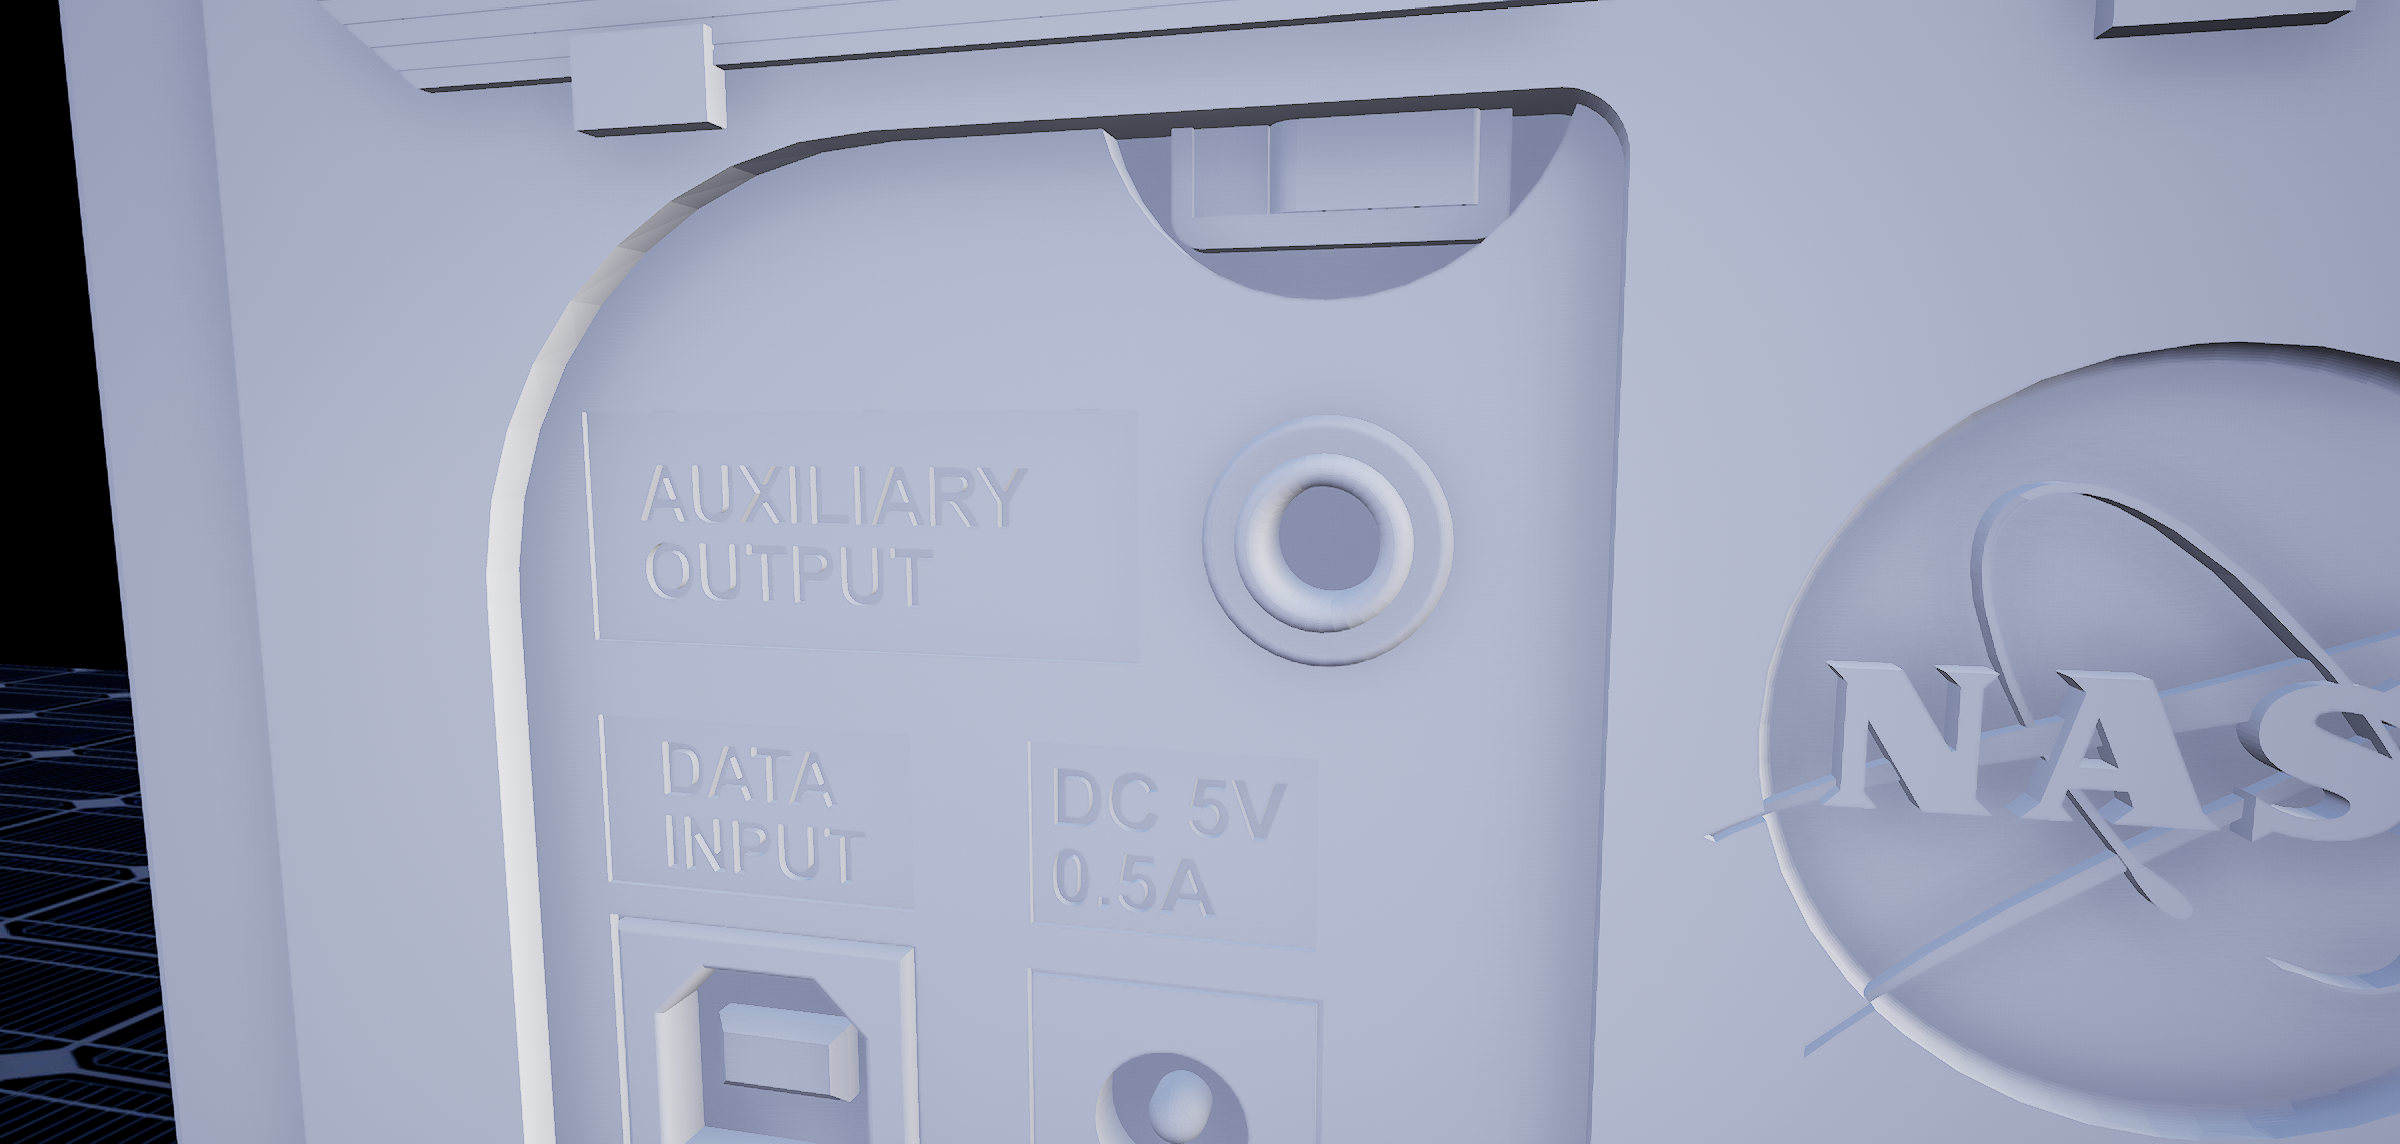aux: (1188, 403, 1466, 685)
dc: (1081, 1046, 1272, 1144)
usb: (654, 956, 888, 1144)
